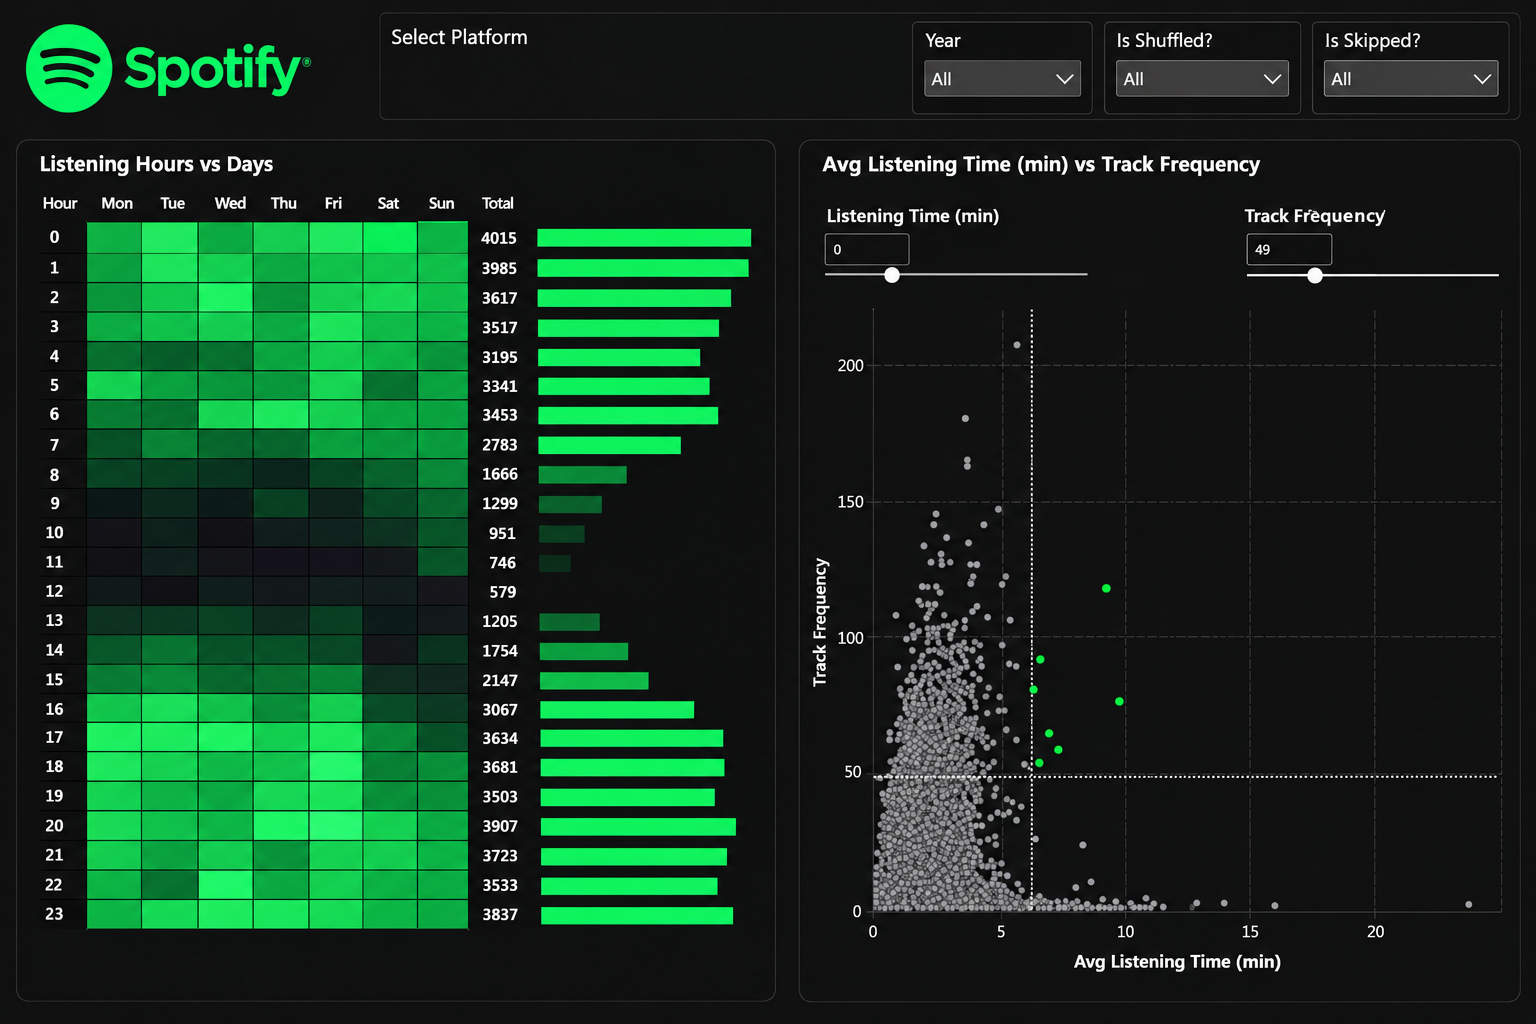

The page's visual inventory and layout, read from the dashboard file:
{"tool":"powerbi","page":{"name":"Listening Patterns","canvas":[3300,2200],"ordinal":1},"visuals":[{"type":"image","box":[28.3,23.3,576.7,201.7],"z":0},{"type":"textbox","box":[2723.3,20,293.3,73.3],"z":1000,"group":"g3"},{"type":"textbox","box":[2020,23.3,291.5,66.7],"z":1000,"group":"g6"},{"type":"textbox","box":[2370,23.3,270,70],"z":1000,"group":"g2"},{"type":"textbox","box":[826.7,33.3,291.5,113.3],"z":1000,"group":"g4"},{"type":"shape","box":[36.7,290,1560,1836.7],"z":1000},{"type":"textbox","box":[1743.3,300,825.4,113.3],"z":1000,"group":"g5"},{"type":"textbox","box":[85.1,301.1,444.4,113.3],"z":1000,"group":"g1"},{"type":"group","id":"g1","title":"Group 1","box":[85.1,301.1,444.4,113.3],"z":2000},{"type":"shape","box":[2010,23.3,983.3,200],"z":3000},{"type":"slicer","fields":{"Values":["spotify_history.shuffle"]},"box":[2370,94.4,273.3,200],"z":4000},{"type":"slicer","fields":{"Values":["spotify_history.skipped"]},"box":[2716.7,94.4,273.3,200],"z":5000},{"type":"group","id":"g2","title":"Group 1","box":[2370,23.3,270,70],"z":6000},{"type":"group","id":"g3","title":"Group 1","box":[2723.3,20,293.3,73.3],"z":7000},{"type":"pivotTable","fields":{"Rows":["spotify_history.Hour"],"Columns":["Date Table.Day Name"],"Values":["spotify_history.No of Tracks"]},"box":[70,346.7,1133.3,1746.7],"z":8000},{"type":"barChart","fields":{"Category":["spotify_history.Hour"],"Y":["spotify_history.No of Tracks"]},"box":[1096.4,419.1,469.1,1661.8],"z":9000},{"type":"group","id":"g4","title":"Group 1","box":[826.7,33.3,290,113.3],"z":10000},{"type":"shape","box":[1703.3,290,1560,1836.7],"z":11000},{"type":"scatterChart","fields":{"X":["spotify_history.Avg Listening Time (min)"],"Y":["spotify_history.Track Frequency"],"Category":["spotify_history.track_name"]},"box":[1743.3,556.7,1476.7,1526.7],"z":12000},{"type":"slicer","fields":{"Values":["Listening Time (min).Listening Time (min)"]},"box":[1743.3,397,533.3,233.3],"z":13000},{"type":"slicer","fields":{"Values":["Track Frequency (Parameter).Track Frequency (Parameter)"]},"box":[2703.3,400.3,516.7,233.3],"z":14000},{"type":"group","id":"g5","title":"Group 1","box":[1743.3,300,826.7,113.3],"z":15000},{"type":"slicer","fields":{"Values":["Date Table.Year"]},"box":[2020,94.4,273.3,200],"z":16000},{"type":"group","id":"g6","title":"Group 1","box":[2020,23.3,290,66.7],"z":17000}]}

Visuals, with their boxes in screenshot pixels (x1, y1, x2, y2), scaled from the page's 3300x2200 canvas onto the 1536x1024 screenshot:
image: [x1=13, y1=11, x2=282, y2=105]
textbox: [x1=1268, y1=9, x2=1404, y2=43]
textbox: [x1=940, y1=11, x2=1076, y2=42]
textbox: [x1=1103, y1=11, x2=1229, y2=43]
textbox: [x1=385, y1=15, x2=520, y2=68]
shape: [x1=17, y1=135, x2=743, y2=990]
textbox: [x1=811, y1=140, x2=1196, y2=192]
textbox: [x1=40, y1=140, x2=246, y2=193]
"Group 1" group: [x1=40, y1=140, x2=246, y2=193]
shape: [x1=936, y1=11, x2=1393, y2=104]
slicer - spotify_history.shuffle: [x1=1103, y1=44, x2=1230, y2=137]
slicer - spotify_history.skipped: [x1=1265, y1=44, x2=1392, y2=137]
"Group 1" group: [x1=1103, y1=11, x2=1229, y2=43]
"Group 1" group: [x1=1268, y1=9, x2=1404, y2=43]
pivotTable - spotify_history.Hour x Date Table.Day Name: [x1=33, y1=161, x2=560, y2=974]
barChart - spotify_history.Hour x spotify_history.No of Tracks: [x1=510, y1=195, x2=729, y2=969]
"Group 1" group: [x1=385, y1=15, x2=520, y2=68]
shape: [x1=793, y1=135, x2=1519, y2=990]
scatterChart - spotify_history.Avg Listening Time (min) x spotify_history.Track Frequency: [x1=811, y1=259, x2=1499, y2=970]
slicer - Listening Time (min).Listening Time (min): [x1=811, y1=185, x2=1060, y2=293]
slicer - Track Frequency (Parameter).Track Frequency (Parameter): [x1=1258, y1=186, x2=1499, y2=295]
"Group 1" group: [x1=811, y1=140, x2=1196, y2=192]
slicer - Date Table.Year: [x1=940, y1=44, x2=1067, y2=137]
"Group 1" group: [x1=940, y1=11, x2=1075, y2=42]
